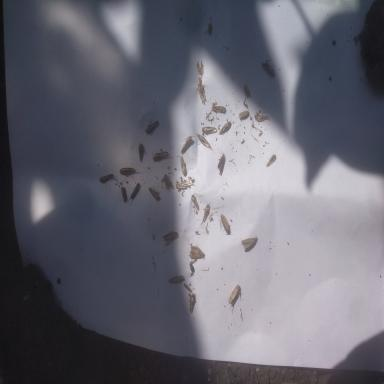pbw: (227, 284, 241, 311), (214, 147, 225, 175), (188, 243, 205, 260), (219, 213, 234, 232), (127, 182, 141, 202), (152, 149, 172, 163), (180, 135, 196, 152), (162, 231, 180, 246), (200, 202, 211, 225), (241, 236, 259, 249), (144, 118, 159, 133), (197, 81, 206, 105), (262, 59, 274, 77), (148, 184, 161, 200), (254, 111, 270, 123), (98, 173, 114, 184), (190, 193, 199, 212), (119, 166, 138, 175), (168, 274, 185, 284), (180, 155, 188, 176), (219, 120, 231, 134), (242, 82, 251, 99), (201, 125, 218, 134), (211, 104, 226, 114), (189, 294, 196, 312), (138, 143, 144, 164), (266, 154, 276, 166), (176, 180, 188, 190), (237, 110, 249, 119), (121, 186, 127, 202)
